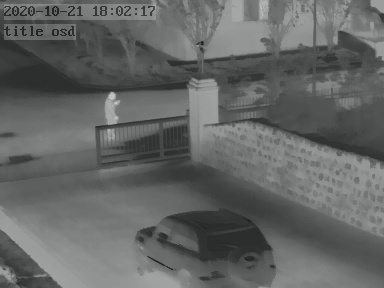person: (102, 87, 120, 141)
vehicle: (138, 201, 280, 287)
